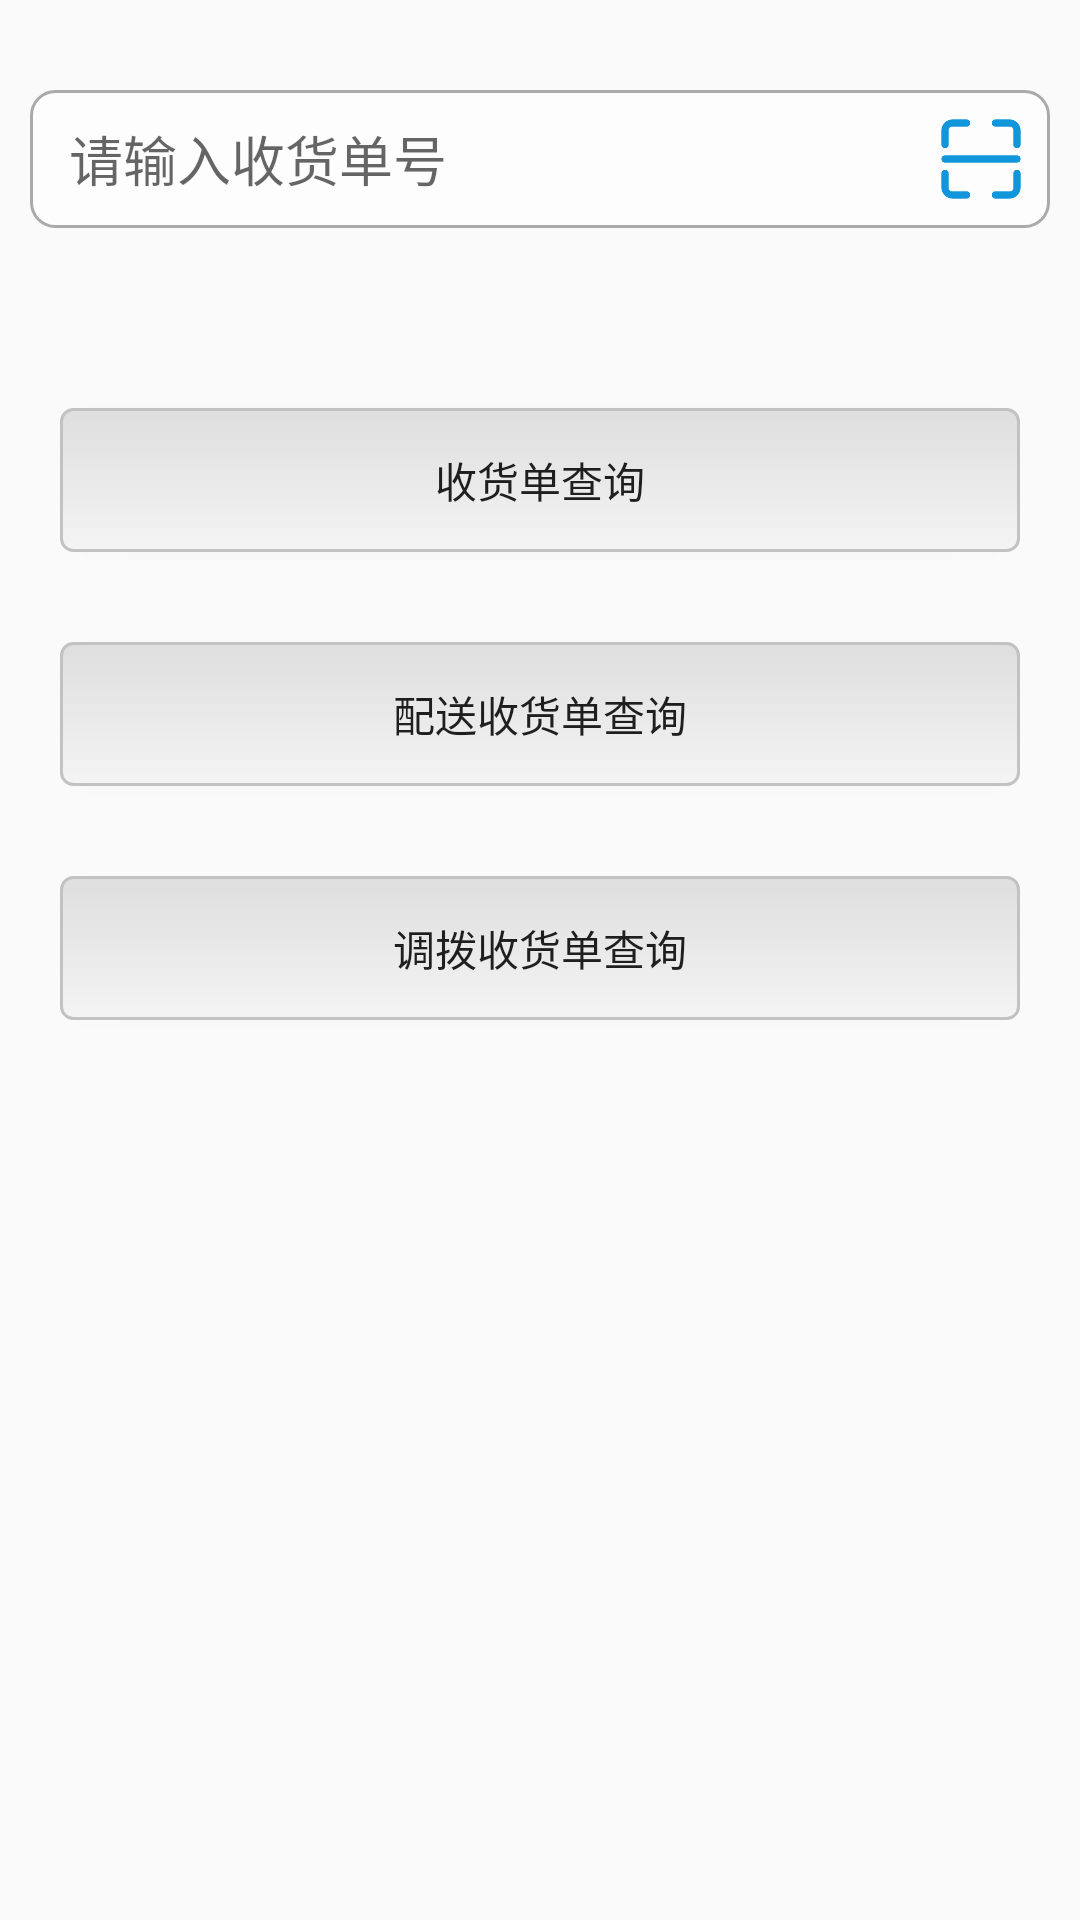

Named icons in this screenshot (1080px x 1920px) and their centers, point (x, y):
scan: point (981, 159)
